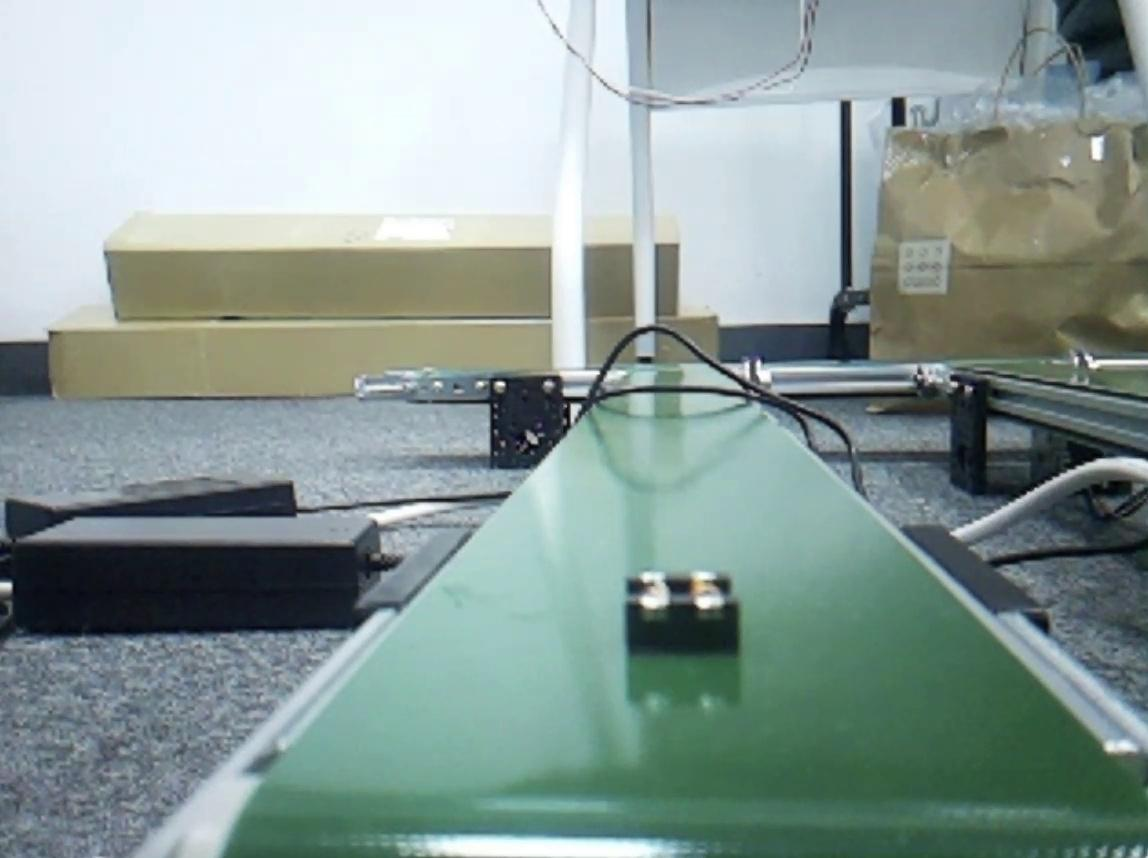inductor: (630, 570, 738, 653)
